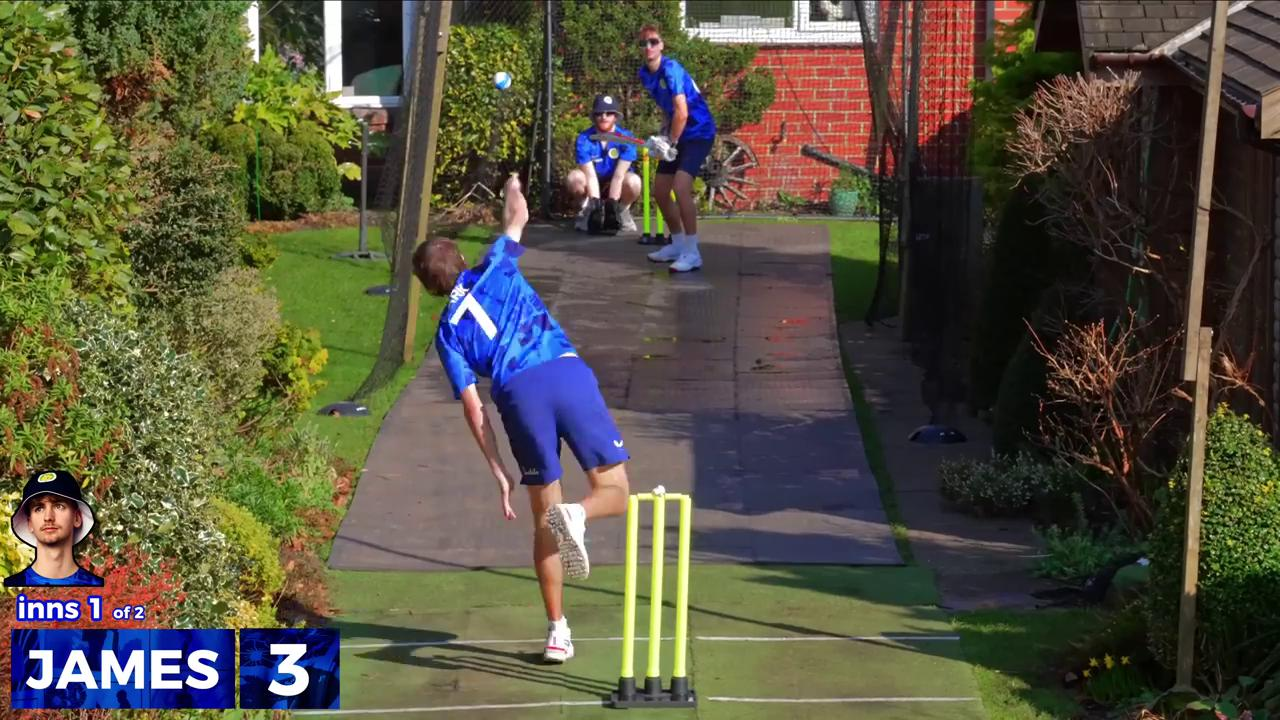ball: (479, 66, 530, 94)
